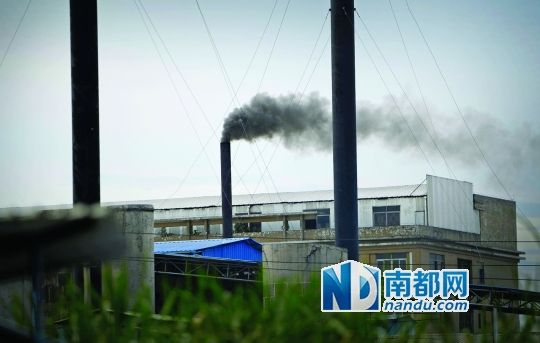dust: (217, 89, 331, 151)
